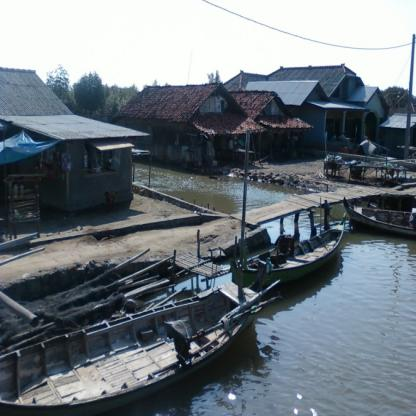boat: (6, 314, 268, 406), (237, 234, 342, 291), (343, 202, 414, 233)
